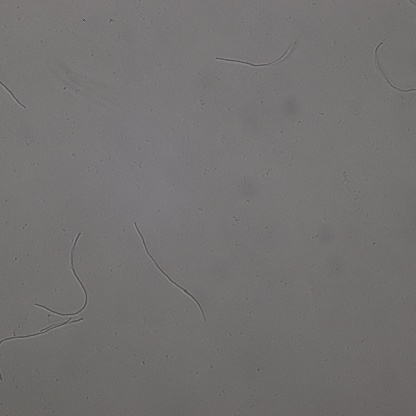Sensitive: (135, 224, 207, 319), (33, 232, 88, 316), (1, 317, 85, 345), (373, 41, 416, 94), (215, 42, 295, 69), (1, 81, 27, 108)
